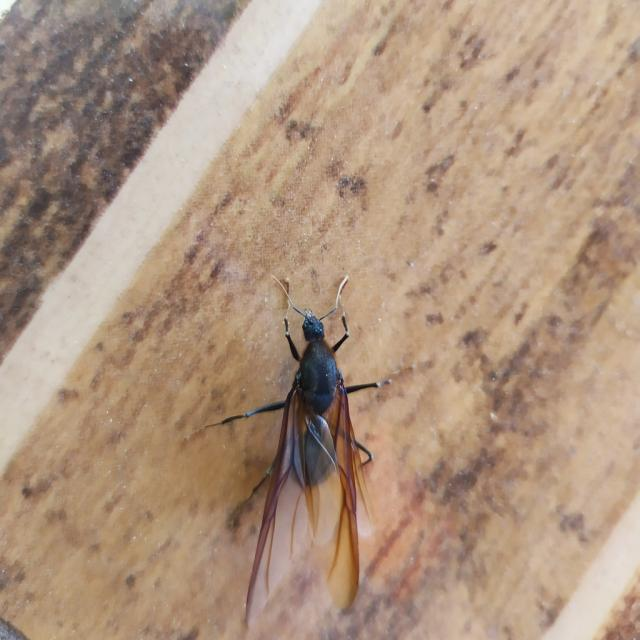Alive-Male-Alate: (204, 271, 416, 633)
